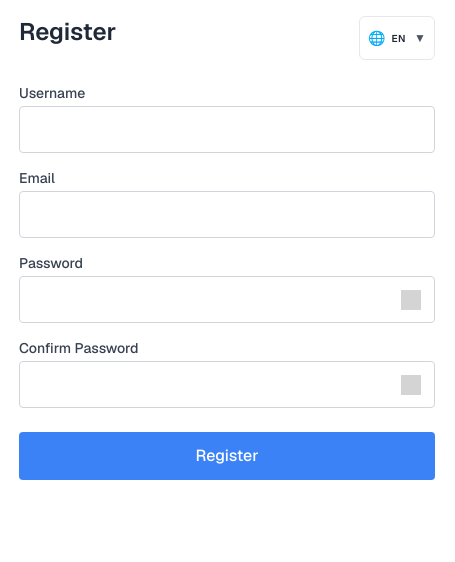
RegisterForm › shows success message for approved user
The width and height of the screenshot is (455, 562).
In the field labelled "Username": (227, 130) [19,106,435,153], type "admin"
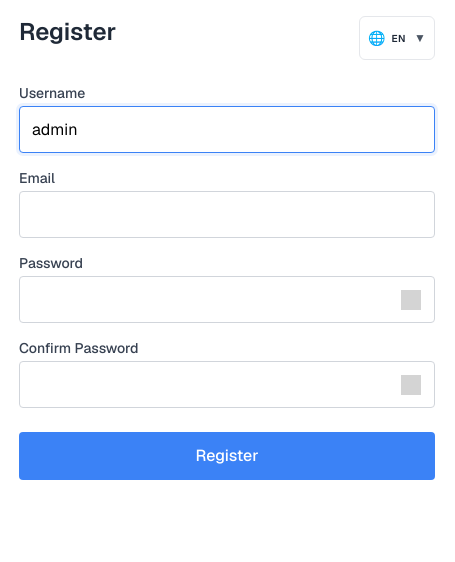
In the field labelled "Email": (227, 214) [19,191,435,238], type "admin@example.com"
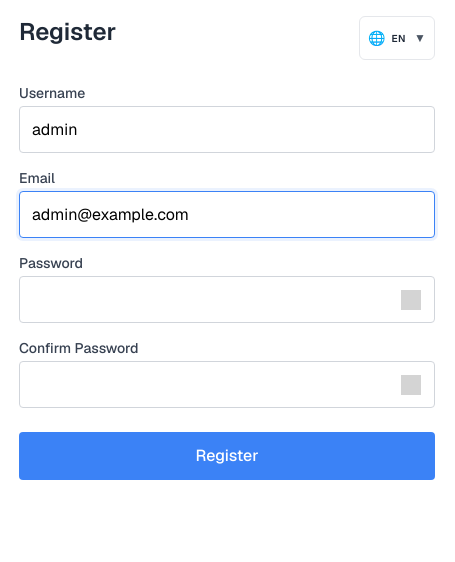
In the password field labelled "Password": (227, 300) [19,276,435,323], type "AdminPass123!"
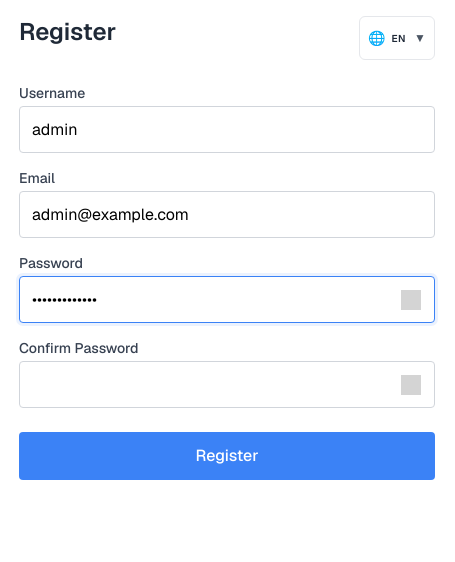
In the password field labelled "Confirm Password": (227, 384) [19,361,435,408], type "AdminPass123!"
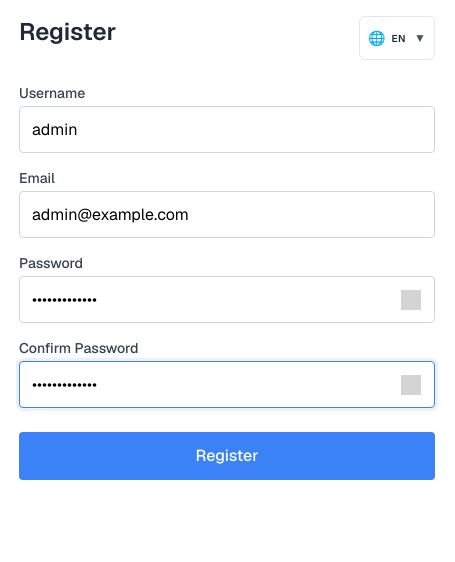
Click the button "Register": (227, 456) [19,432,435,480]
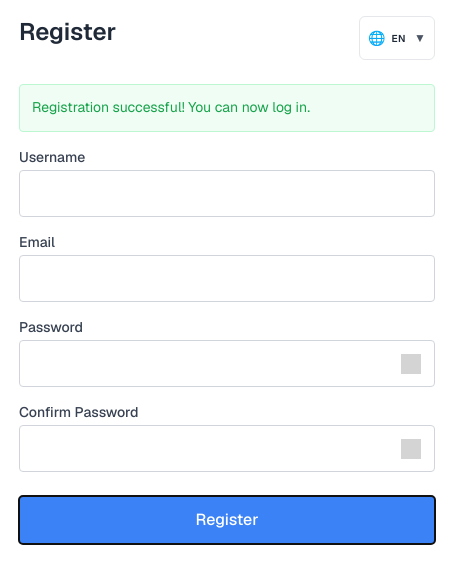
Now the text "Registration successful! You can now log in." is shown, box [19,84,435,132]
